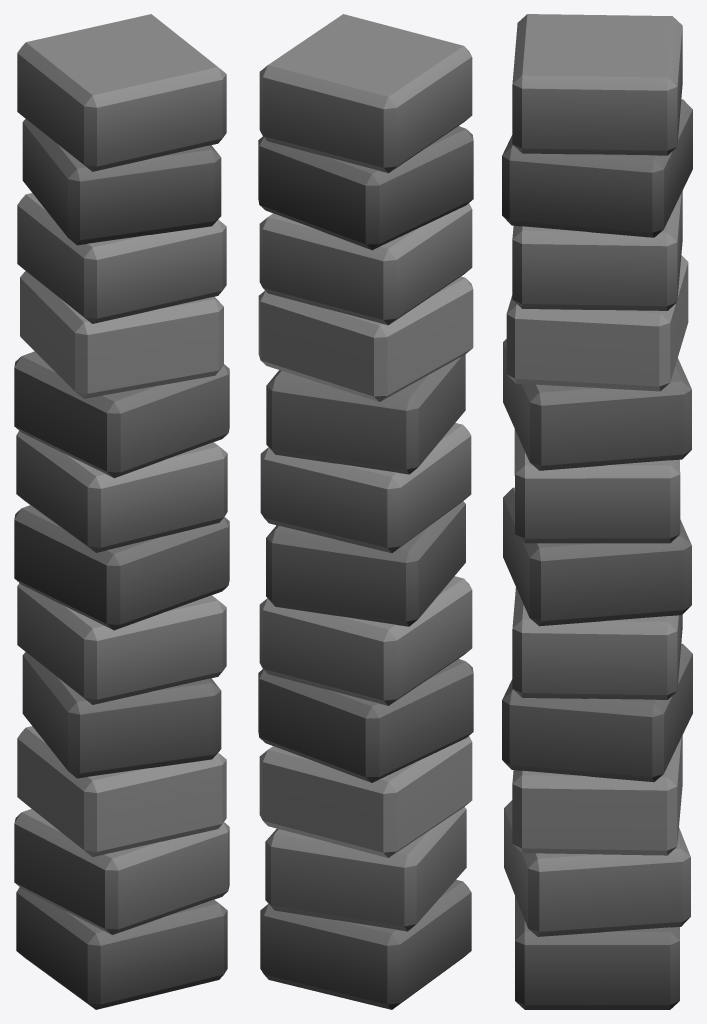
The model's file is Column_01.fbx.
3 views of the same model, side by side, from view 1: azimuth 30°, elevation 25°; view 2: azimuth 150°, elevation 25°; view 3: azimuth 270°, elevation 25° (orthographic). The views are drawn at different scales.
Visible parts, largest first — view 1: Column_01; view 2: Column_01; view 3: Column_01.
Part boxes in pixels (box(x1,y1,x2,y2)): Column_01: box(14, 14, 229, 1009); Column_01: box(258, 14, 473, 1009); Column_01: box(502, 14, 692, 1009).
Size of the model in its own units: 50 by 270 by 50.
